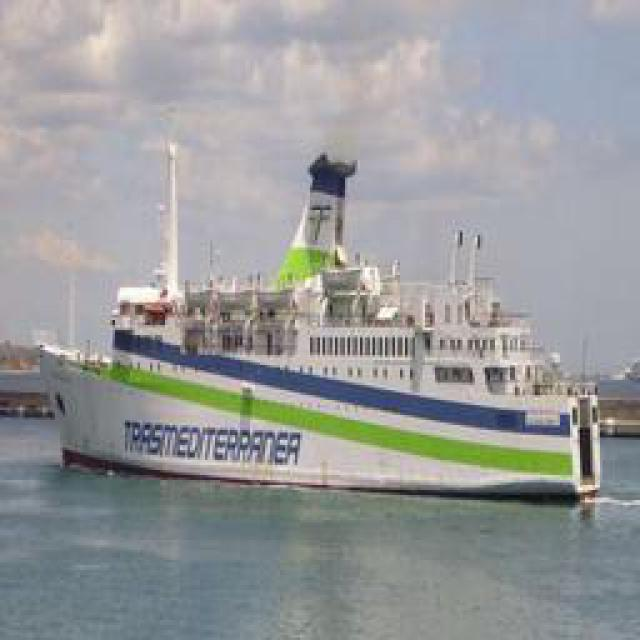Ship: (43, 144, 618, 497)
